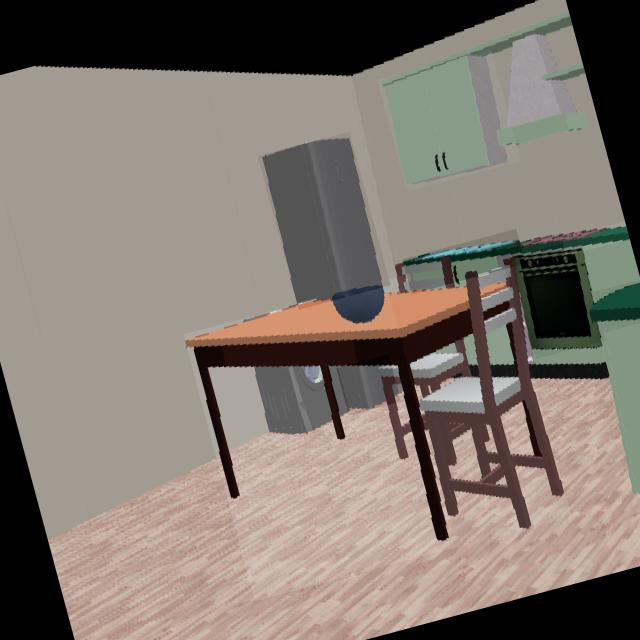cabinet: (381, 56, 516, 185), (592, 285, 640, 449)
chair: (413, 274, 564, 529)
countertop: (590, 281, 640, 323), (562, 226, 629, 246)
fridge: (262, 138, 382, 304), (336, 367, 393, 410)
oven: (512, 249, 598, 348)
sink: (404, 239, 520, 283)
table: (185, 273, 531, 541)
